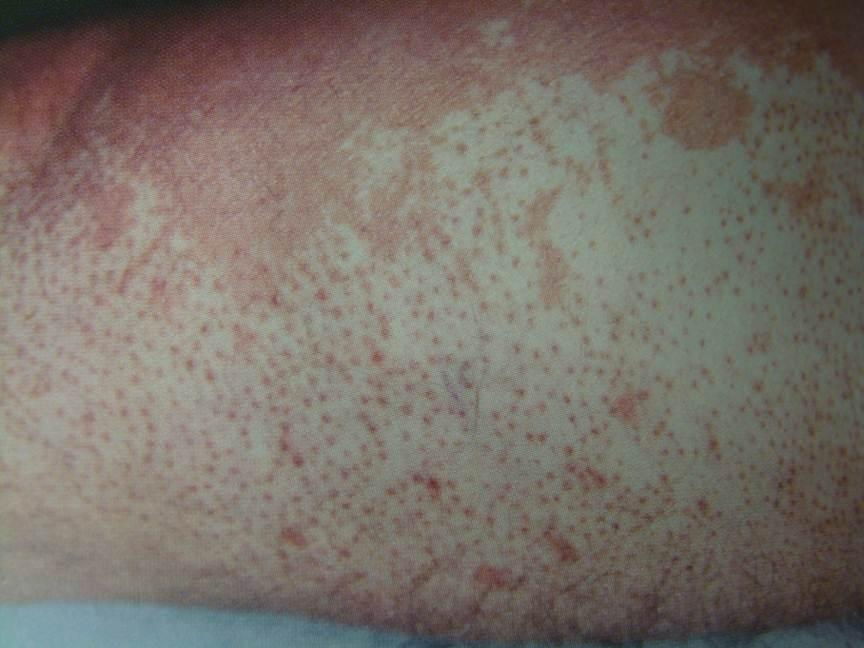Pityriasis Rubra Pilaris: (106, 108, 717, 520)
